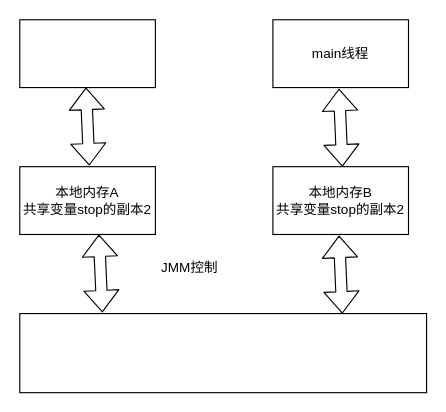
Image size: 446x412. Some labels were removed from this diagram. Here are the shapes that lost their labels. From the top down, the centre of each, then its label:
At [87,53]: "线程t1".
At [223,352]: "主内存".
